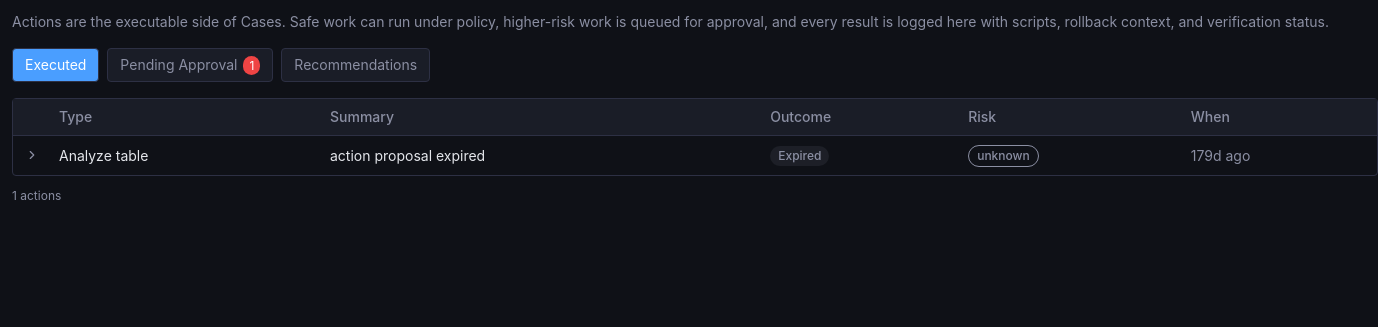
Actions › shows expired queued actions in the action ledger
The image size is (1378, 327).
Expected: the text "Expired" is shown, top-left (770, 146), bottom-right (830, 166)
Expected: the text "action proposal expired" is shown, top-left (322, 136), bottom-right (762, 175)
Click the button named "Expand row": (32, 155) top-left (21, 144), bottom-right (43, 166)
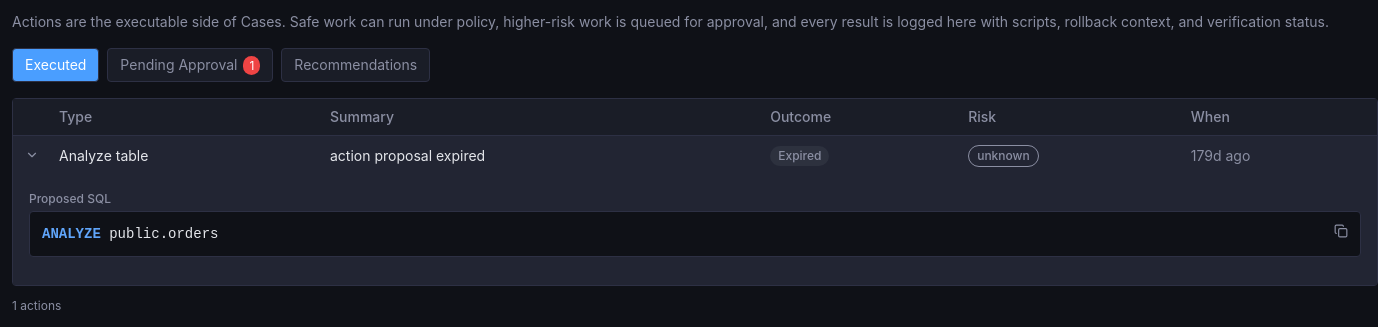
Expected: the text "Proposed SQL" is shown, top-left (29, 191), bottom-right (111, 206)
